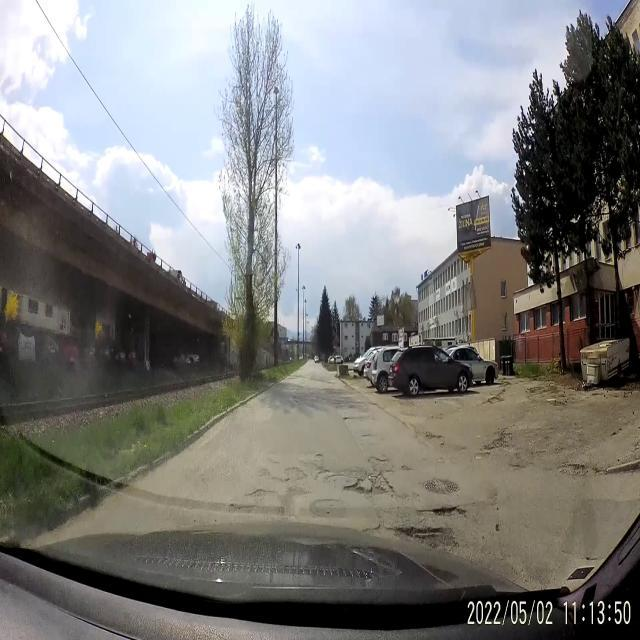Manhole: (308, 492, 352, 526), (421, 471, 462, 501), (324, 469, 356, 495)
Pothole: (390, 516, 456, 550), (418, 498, 466, 526), (346, 474, 392, 500), (366, 452, 398, 483), (280, 460, 310, 486), (338, 409, 366, 425), (245, 490, 279, 500), (472, 448, 490, 463), (314, 452, 324, 460)
